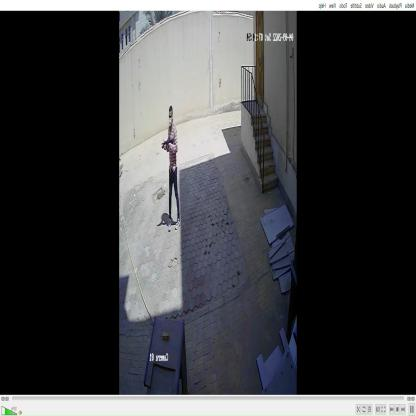handgun: (160, 138, 176, 154)
